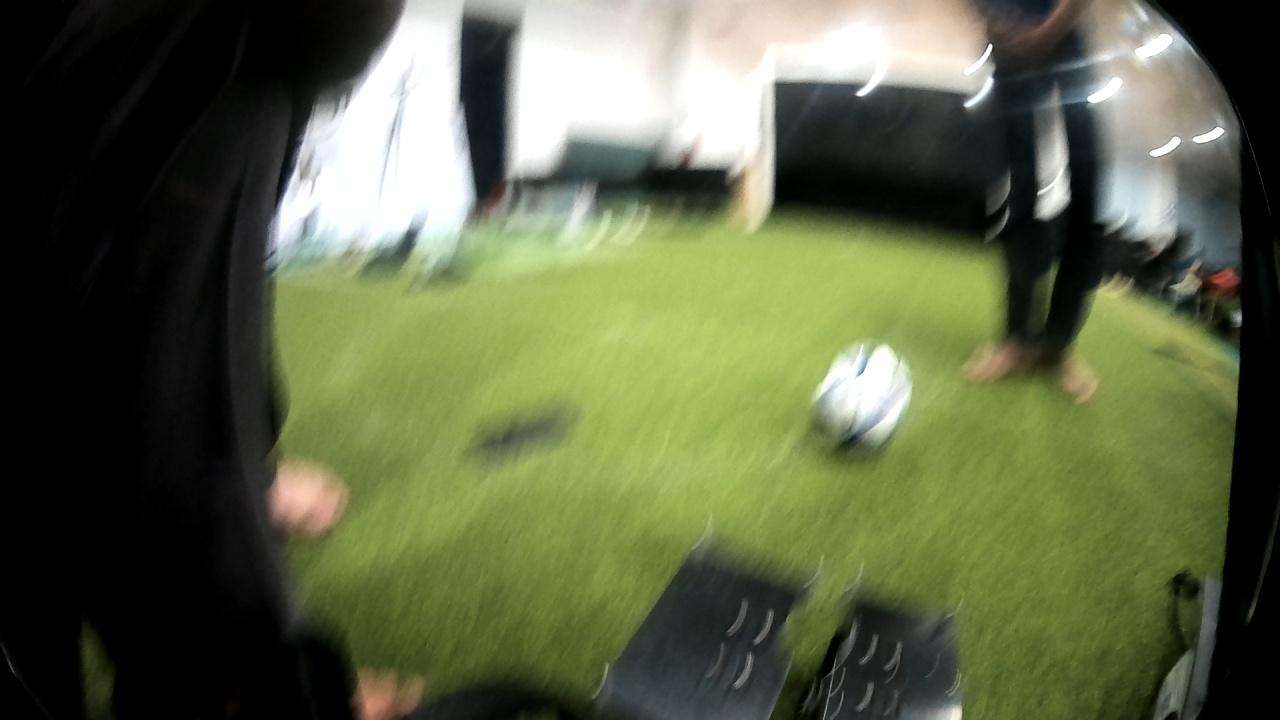ball: (803, 333, 919, 459)
